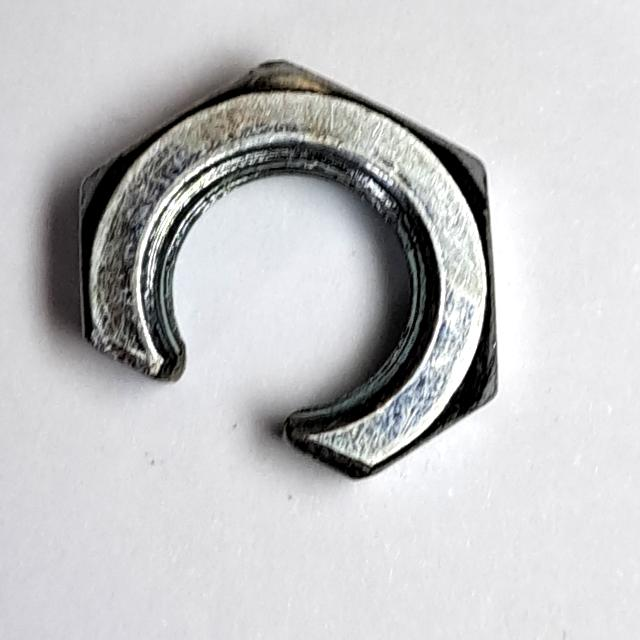Fracture: (64, 45, 514, 494)
